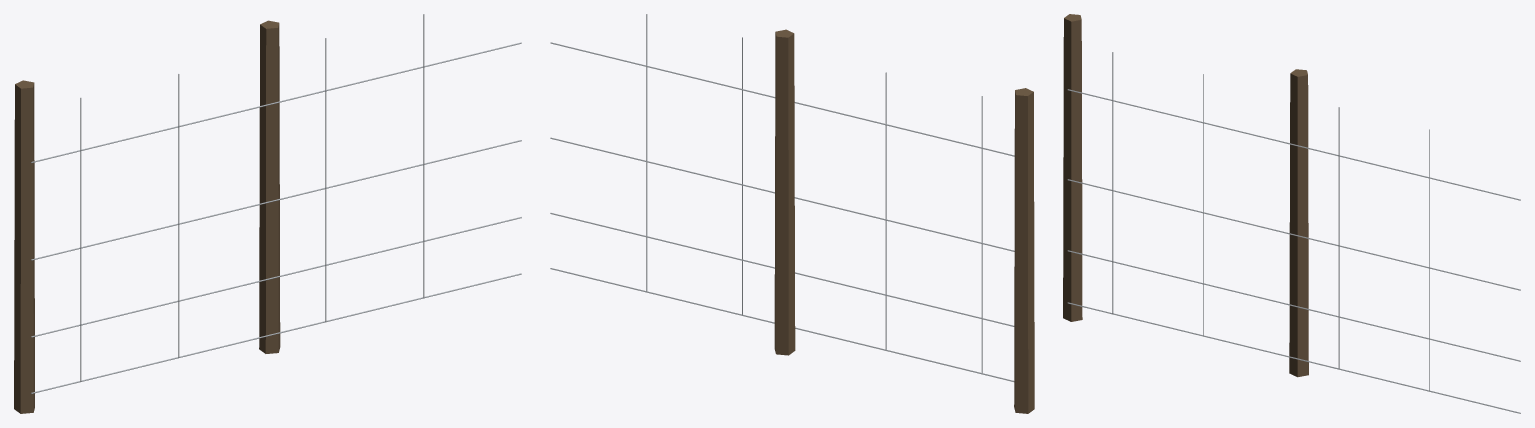
The model's file is Prop_Valley_ExclosureFence_LOD1.glb.
The picture shows the model from 3 angles, left to right: view 1: azimuth 30°, elevation 25°; view 2: azimuth 150°, elevation 25°; view 3: azimuth 330°, elevation 25°; orthographic projection. The views are drawn at different scales.
Visible parts, largest first — view 1: Prop_Valley_ExclosureFence; view 2: Prop_Valley_ExclosureFence; view 3: Prop_Valley_ExclosureFence.
Part boxes in pixels (x1=…): Prop_Valley_ExclosureFence: x1=14, y1=14, x2=521, y2=413; Prop_Valley_ExclosureFence: x1=550, y1=14, x2=1034, y2=413; Prop_Valley_ExclosureFence: x1=1063, y1=14, x2=1520, y2=413.
Size of the model in its own units: 3.05 by 1.9 by 0.1281.
